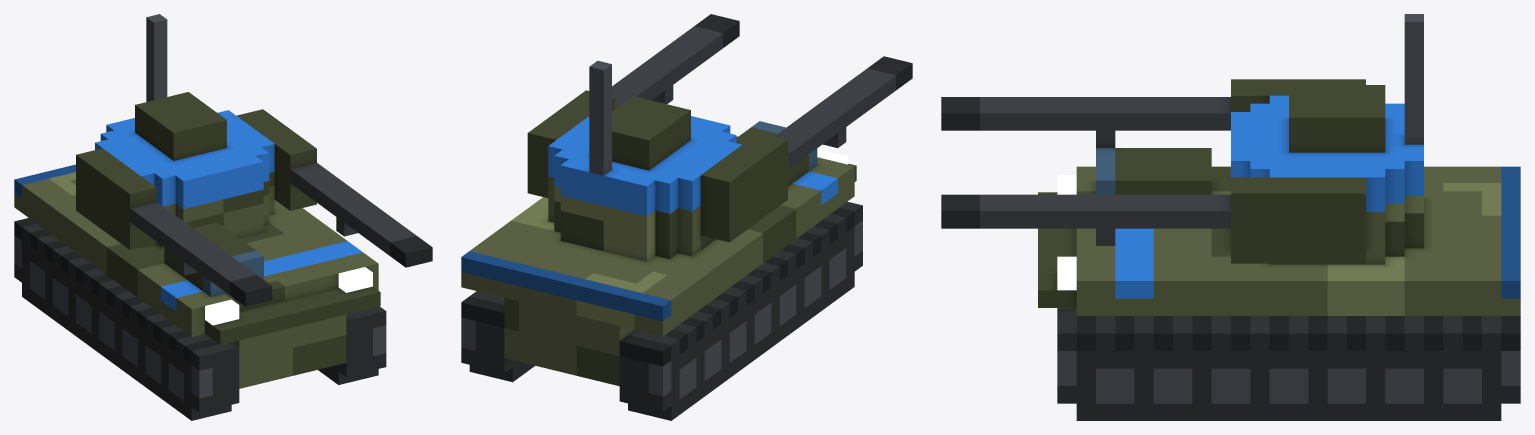
3 renders of one model, left to right at view 1: azimuth 30°, elevation 25°; view 2: azimuth 150°, elevation 25°; view 3: azimuth 270°, elevation 25°, orthographic. The views are drawn at different scales.
Parts seen in each view (by area): view 1: cm_aa_1_body; view 2: cm_aa_1_body; view 3: cm_aa_1_body.
Part boxes in pixels (x1,y1,x2,y2): cm_aa_1_body: [14, 14, 432, 420]; cm_aa_1_body: [461, 14, 912, 420]; cm_aa_1_body: [941, 14, 1520, 420].
Bounding box in the file's own units: 0.875 × 1.25 × 1.88.
Materials: 1 (1 with a texture image).
